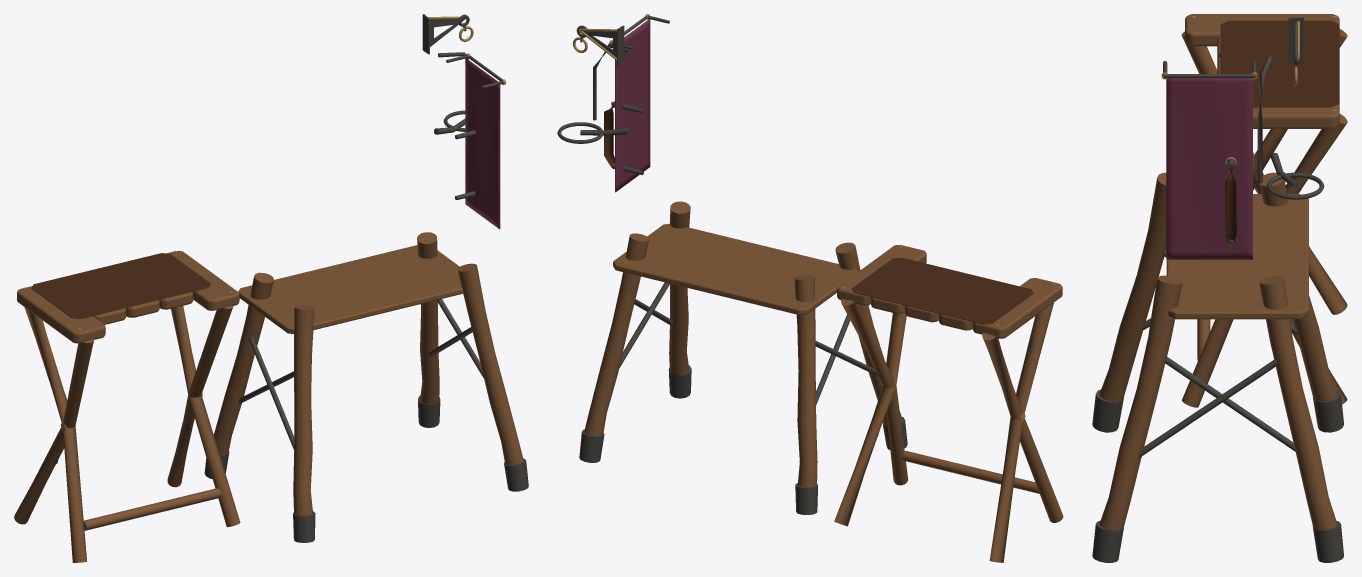
Rendered from merchant.fbx.
3 renders of one model, left to right at view 1: azimuth 30°, elevation 25°; view 2: azimuth 150°, elevation 25°; view 3: azimuth 270°, elevation 25°, orthographic. The views are drawn at different scales.
Visible parts, largest first — view 1: merchant_DarkWood, merchant_Leather, ClothRunner_MerchantSide_AltarCloth, GroundSupport06_Cabinet folding trestle.003_DarkWood, GroundSupport02_Cabinet folding trestle.001_DarkWood, merchant_ForgedIron, GroundSupport11_Ledger folding support.003_DarkWood, GroundSupport04_Cabinet folding trestle.002_DarkWood, GroundSupport09_Ledger folding support.001_DarkWood, GroundSupport10_Ledger folding support.002_DarkWood, GroundSupport08_Ledger folding support_DarkWood, GroundSupport00_Cabinet folding trestle_DarkWood (+1 smaller); view 2: merchant_DarkWood, merchant_Leather, ClothRunner_MerchantSide_AltarCloth, merchant_ForgedIron, GroundSupport04_Cabinet folding trestle.002_DarkWood, GroundSupport00_Cabinet folding trestle_DarkWood, GroundSupport10_Ledger folding support.002_DarkWood, GroundSupport08_Ledger folding support_DarkWood, GroundSupport11_Ledger folding support.003_DarkWood, GroundSupport09_Ledger folding support.001_DarkWood, GroundSupport02_Cabinet folding trestle.001_DarkWood, GroundSupport06_Cabinet folding trestle.003_DarkWood (+2 smaller); view 3: merchant_DarkWood, ClothRunner_MerchantSide_AltarCloth, merchant_Leather, GroundSupport02_Cabinet folding trestle.001_DarkWood, GroundSupport00_Cabinet folding trestle_DarkWood, merchant_ForgedIron, GroundSupport06_Cabinet folding trestle.003_DarkWood, GroundSupport09_Ledger folding support.001_DarkWood, GroundSupport04_Cabinet folding trestle.002_DarkWood, GroundSupport10_Ledger folding support.002_DarkWood, GroundSupport03_Iron foot shoe.001_ForgedIron, GroundSupport01_Iron foot shoe_ForgedIron (+4 smaller).
Boxes of the visible parts, bbox=[...] form: merchant_DarkWood: bbox=[17, 245, 463, 530]; merchant_Leather: bbox=[31, 253, 210, 318]; ClothRunner_MerchantSide_AltarCloth: bbox=[465, 58, 500, 229]; GroundSupport06_Cabinet folding trestle.003_DarkWood: bbox=[293, 305, 314, 515]; GroundSupport02_Cabinet folding trestle.001_DarkWood: bbox=[457, 263, 523, 464]; merchant_ForgedIron: bbox=[54, 14, 503, 463]; GroundSupport11_Ledger folding support.003_DarkWood: bbox=[24, 307, 86, 562]; GroundSupport04_Cabinet folding trestle.002_DarkWood: bbox=[213, 272, 273, 455]; GroundSupport09_Ledger folding support.001_DarkWood: bbox=[171, 306, 240, 526]; GroundSupport10_Ledger folding support.002_DarkWood: bbox=[14, 339, 93, 524]; GroundSupport08_Ledger folding support_DarkWood: bbox=[167, 305, 233, 487]; GroundSupport00_Cabinet folding trestle_DarkWood: bbox=[417, 232, 439, 404]; merchant_DarkWood: bbox=[613, 223, 1062, 493]; merchant_Leather: bbox=[604, 102, 1033, 324]; ClothRunner_MerchantSide_AltarCloth: bbox=[615, 19, 650, 192]; merchant_ForgedIron: bbox=[557, 15, 1034, 436]; GroundSupport04_Cabinet folding trestle.002_DarkWood: bbox=[794, 275, 817, 487]; GroundSupport00_Cabinet folding trestle_DarkWood: bbox=[584, 233, 649, 436]; GroundSupport10_Ledger folding support.002_DarkWood: bbox=[989, 302, 1053, 562]; GroundSupport08_Ledger folding support_DarkWood: bbox=[834, 312, 906, 526]; GroundSupport11_Ledger folding support.003_DarkWood: bbox=[982, 332, 1063, 522]; GroundSupport09_Ledger folding support.001_DarkWood: bbox=[841, 299, 908, 485]; GroundSupport02_Cabinet folding trestle.001_DarkWood: bbox=[669, 201, 690, 375]; GroundSupport06_Cabinet folding trestle.003_DarkWood: bbox=[835, 242, 902, 426]; merchant_DarkWood: bbox=[1166, 14, 1339, 360]; ClothRunner_MerchantSide_AltarCloth: bbox=[1166, 78, 1252, 259]; merchant_Leather: bbox=[1220, 20, 1339, 246]; GroundSupport02_Cabinet folding trestle.001_DarkWood: bbox=[1099, 275, 1182, 530]; GroundSupport00_Cabinet folding trestle_DarkWood: bbox=[1259, 276, 1337, 529]; merchant_ForgedIron: bbox=[1138, 17, 1324, 457]; GroundSupport06_Cabinet folding trestle.003_DarkWood: bbox=[1099, 172, 1166, 401]; GroundSupport09_Ledger folding support.001_DarkWood: bbox=[1182, 113, 1347, 407]; GroundSupport04_Cabinet folding trestle.002_DarkWood: bbox=[1259, 172, 1337, 401]; GroundSupport10_Ledger folding support.002_DarkWood: bbox=[1181, 31, 1347, 314]; GroundSupport03_Iron foot shoe.001_ForgedIron: bbox=[1092, 520, 1123, 562]; GroundSupport01_Iron foot shoe_ForgedIron: bbox=[1313, 521, 1343, 562].
Bounding box in the file's own units: 195 × 174 × 75.27.
